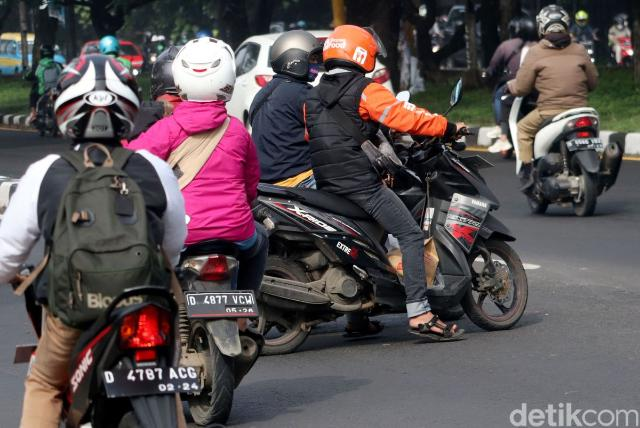helm: (54, 58, 145, 149), (173, 38, 239, 107), (324, 24, 390, 80), (267, 27, 325, 84), (150, 49, 197, 104), (534, 3, 574, 49)
motor: (248, 125, 535, 355), (58, 236, 207, 428), (168, 232, 270, 428), (512, 71, 628, 223)
